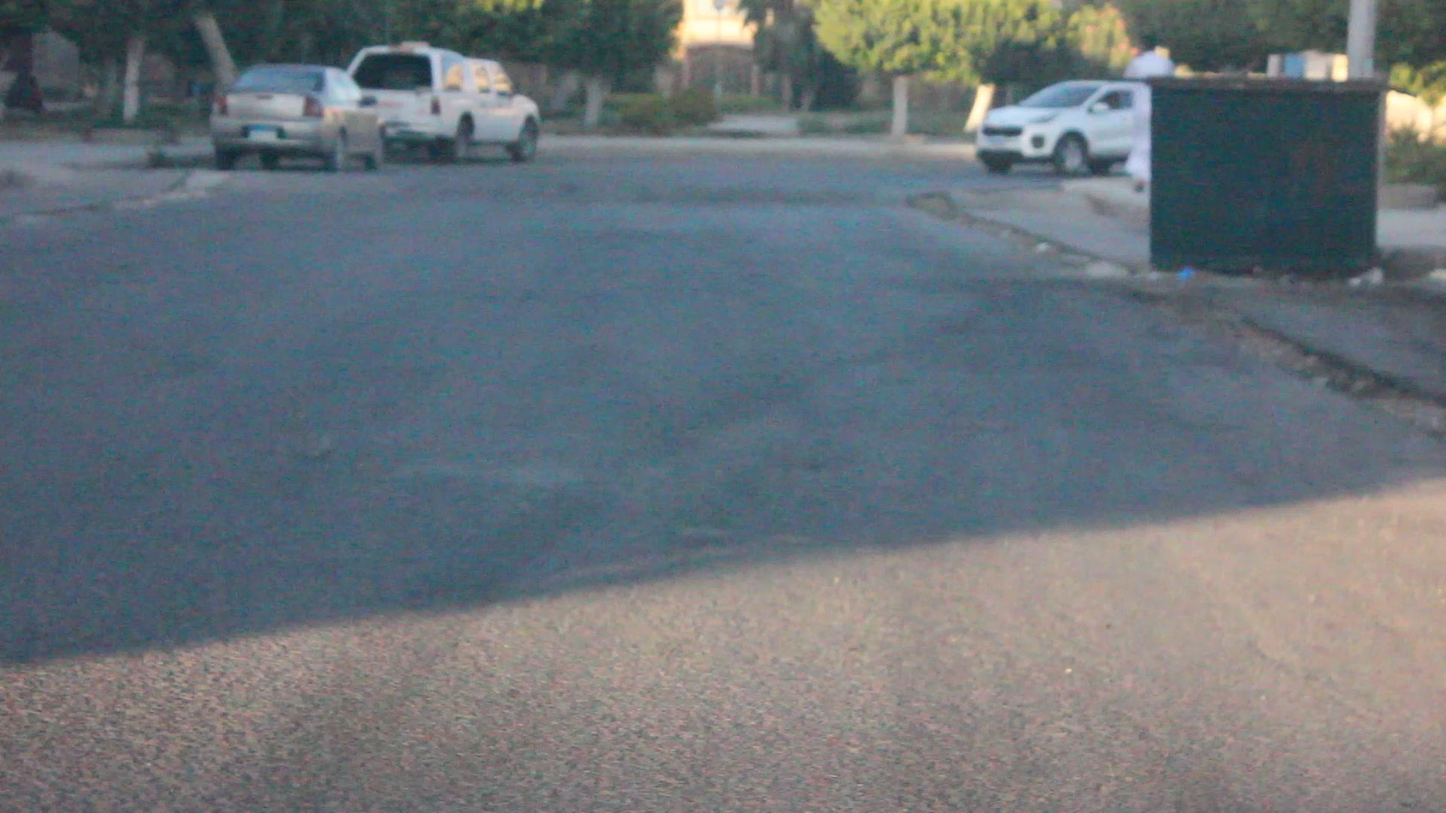Bump: (154, 171, 987, 220)
